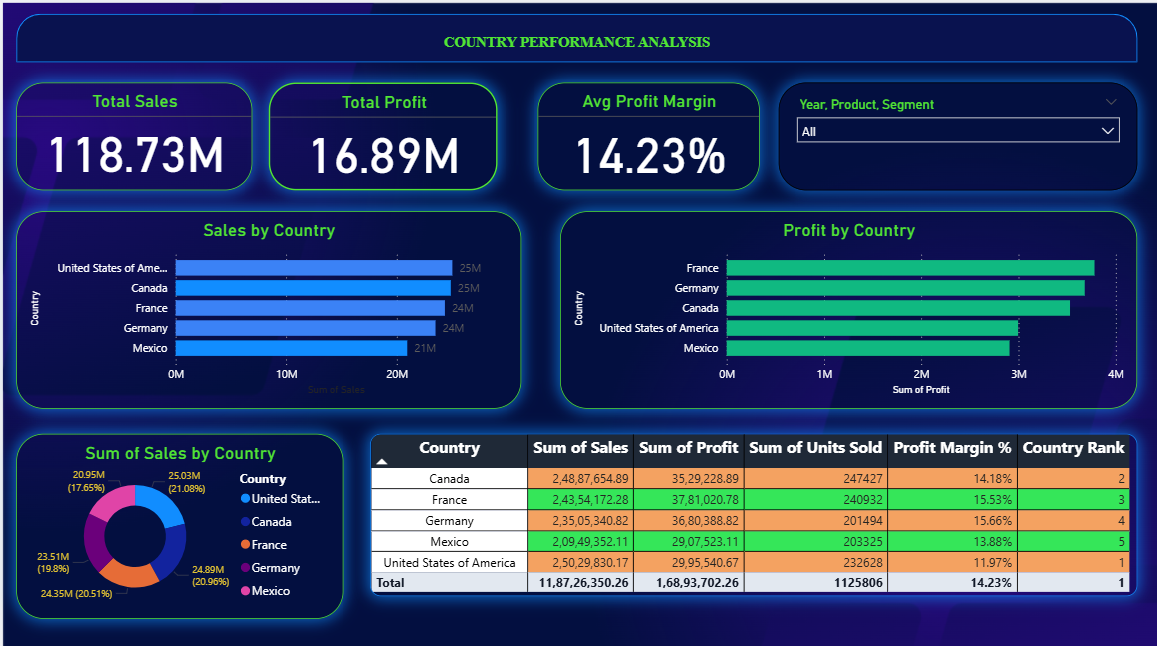

The dashboard page shown, as its layout file describes it:
{"tool":"powerbi","page":{"name":"Country Performance Analysis","canvas":[1280,720],"ordinal":1},"visuals":[{"type":"card","title":"Total Sales","fields":{"Values":["DAX Measures.TotalSales"]},"box":[23.3,96.1,259.3,118],"z":0},{"type":"card","title":"Total Profit","fields":{"Values":["DAX Measures.TotalProfit"]},"box":[300.5,96.1,251.1,118],"z":1000},{"type":"card","title":"Avg Profit Margin","fields":{"Values":["DAX Measures.Average Profit Margin"]},"box":[595.5,96.1,244.3,118],"z":2000},{"type":"clusteredBarChart","title":"Sales by Country","fields":{"Y":["Sum(Financials. Sales)"],"Category":["Financials.Country"]},"box":[23.3,237.4,554.4,216.8],"z":3000},{"type":"clusteredBarChart","title":"Profit by Country","fields":{"Category":["Financials.Country"],"Y":["Sum(Financials.Profit)"]},"box":[620.2,237.4,634,216.8],"z":4000},{"type":"donutChart","fields":{"Category":["Financials.Country"],"Y":["Sum(Financials. Sales)"]},"box":[23.3,481.6,359.5,203.1],"z":5000},{"type":"tableEx","fields":{"Values":["Financials.Country","Sum(Financials. Sales)","Sum(Financials.Profit)","Sum(Financials.Units Sold)","DAX Measures.Profit Margin %","DAX Measures.Country Rank"]},"box":[411.7,481.6,842.5,178.4],"z":6000},{"type":"slicer","fields":{"Values":["Financials.Year","Financials.Product","Financials.Segment"]},"box":[860.4,96.1,393.8,118],"z":7000},{"type":"shape","box":[23.3,20.6,1230.9,53.5],"z":8000}]}

Visuals, with their boxes in screenshot pixels (x1, y1, x2, y2), scaled from the page's 1280x720 canvas onto the 1157x646 screenshot:
"Total Sales" card: Rect(21, 86, 255, 192)
"Total Profit" card: Rect(272, 86, 499, 192)
"Avg Profit Margin" card: Rect(538, 86, 759, 192)
"Sales by Country" clusteredBarChart: Rect(21, 213, 522, 408)
"Profit by Country" clusteredBarChart: Rect(561, 213, 1134, 408)
donutChart - Financials.Country x Sum(Financials. Sales): Rect(21, 432, 346, 614)
tableEx - Financials.Country x Sum(Financials. Sales): Rect(372, 432, 1134, 592)
slicer - Financials.Year x Financials.Product: Rect(778, 86, 1134, 192)
shape: Rect(21, 18, 1134, 66)
